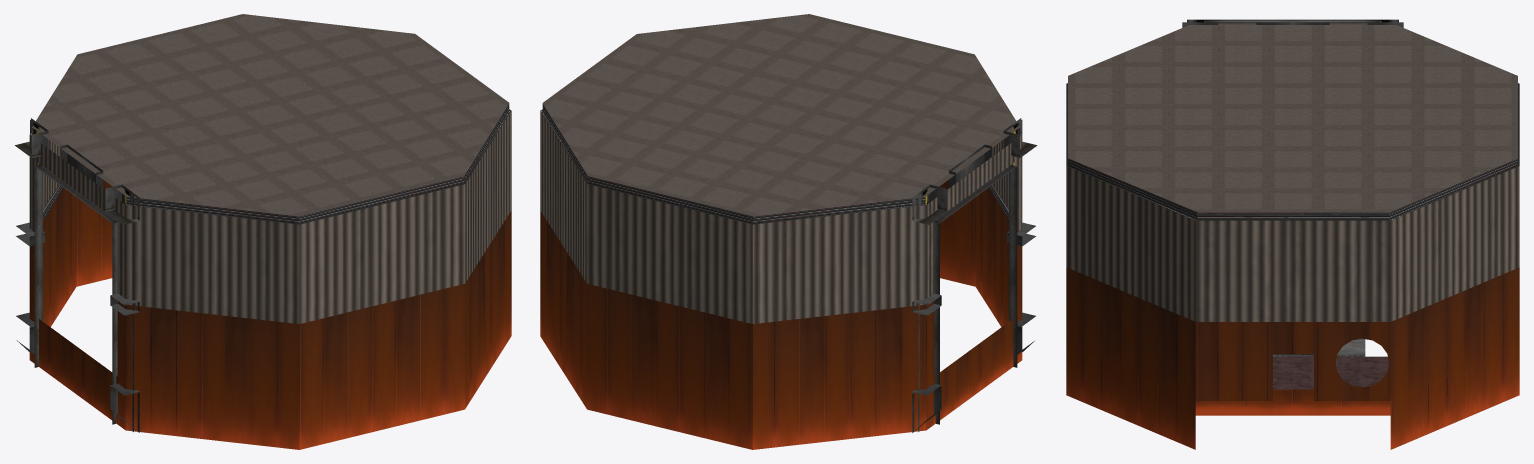
The model's file is molten_hall_final.fbx.
The picture shows the model from 3 angles, left to right: view 1: azimuth 30°, elevation 25°; view 2: azimuth 150°, elevation 25°; view 3: azimuth 270°, elevation 25°; orthographic projection.
Visible parts, largest first — view 1: Walls, Roof, BigDoorFrame; view 2: Walls, Roof, BigDoorFrame; view 3: Walls, Roof, Platform, BigDoorFrame, BigPipe.
Part boxes in pixels (x1,y1,x2,y2): Walls: (29,103,511,449); Roof: (32,14,508,216); BigDoorFrame: (15,118,139,432); Walls: (540,104,1022,449); Roof: (542,14,1019,216); BigDoorFrame: (912,118,1037,432); Walls: (1066,83,1519,449); Roof: (1068,23,1517,212); Platform: (1195,356,1390,415); BigDoorFrame: (1182,19,1403,27); BigPipe: (1273,338,1365,356).
Bounding box in the file's own units: 5177 × 2954 × 5044.
